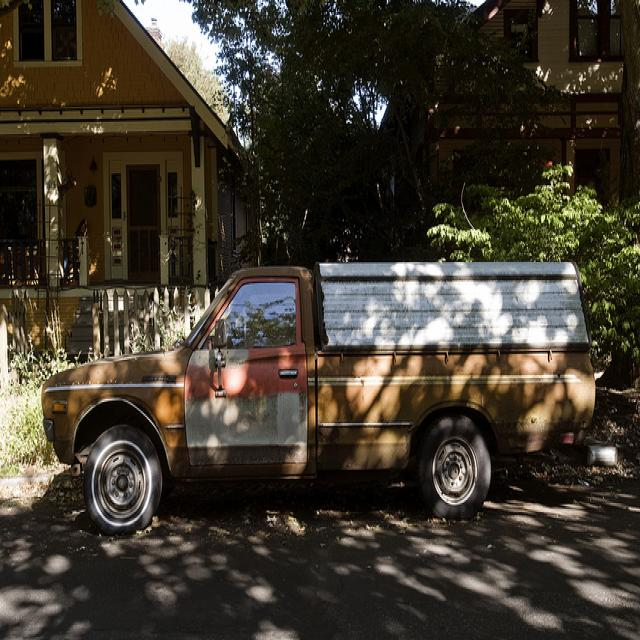Vehicle: (43, 260, 598, 537)
